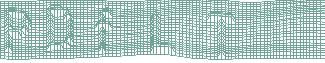D: (45, 5, 76, 52)
L: (148, 12, 177, 57)
P: (3, 7, 33, 57)
T: (205, 10, 237, 61)
f: (93, 7, 114, 54)
